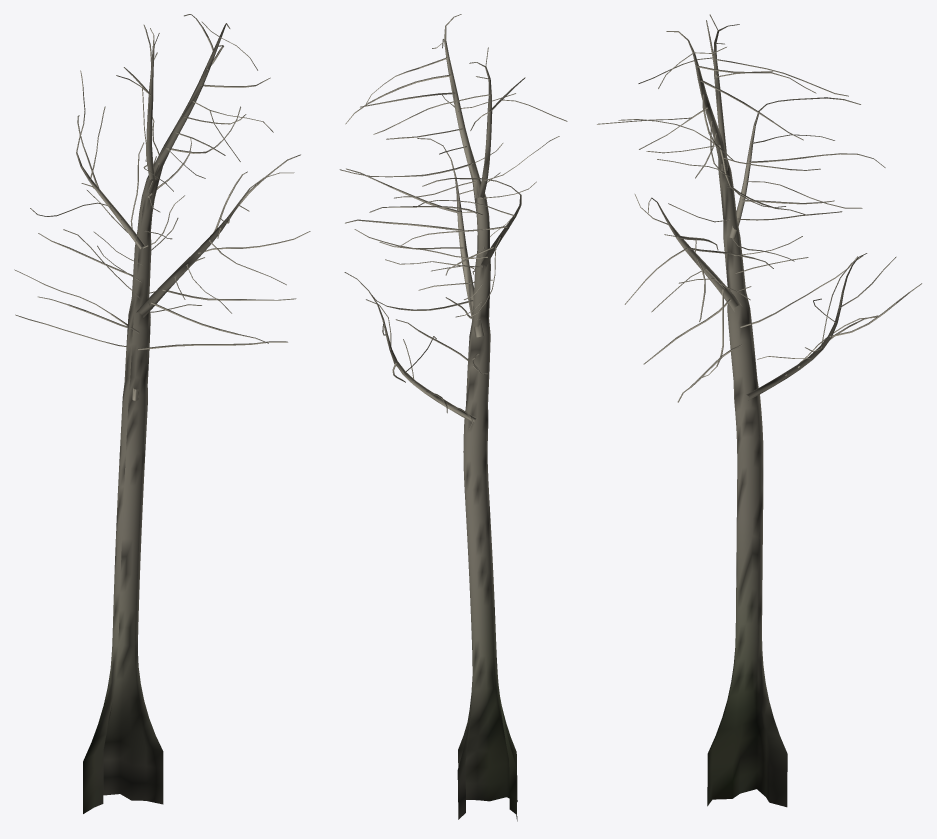
The model's file is SM_Tree_birch_0_bare.glb.
The picture shows the model from 3 angles, left to right: view 1: azimuth 30°, elevation 25°; view 2: azimuth 150°, elevation 25°; view 3: azimuth 270°, elevation 25°; orthographic projection. The views are drawn at different scales.
Parts seen in each view (by area): view 1: SM_Tree_birch_0_bare; view 2: SM_Tree_birch_0_bare; view 3: SM_Tree_birch_0_bare.
Boxes of the visible parts, x1=… form: SM_Tree_birch_0_bare: x1=14, y1=14, x2=310, y2=813; SM_Tree_birch_0_bare: x1=339, y1=14, x2=567, y2=821; SM_Tree_birch_0_bare: x1=597, y1=14, x2=921, y2=807.
Bounding box in the file's own units: 3.39 × 11.78 × 4.29.
